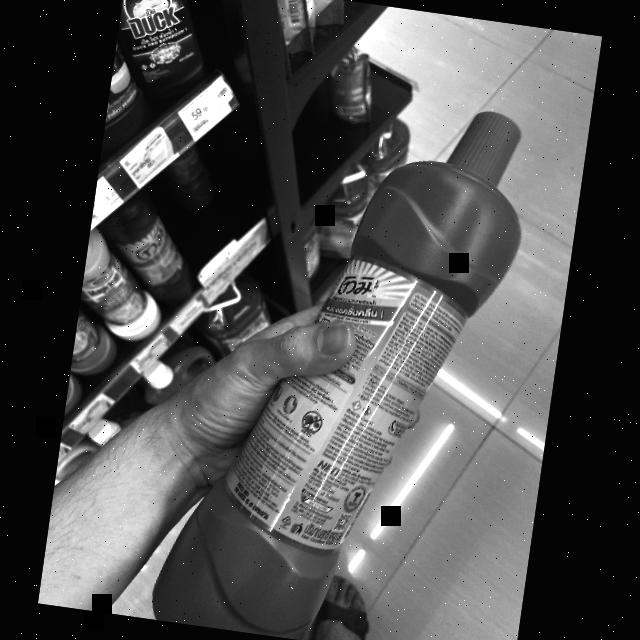chemical_plastic_bottle: (151, 65, 547, 640)
